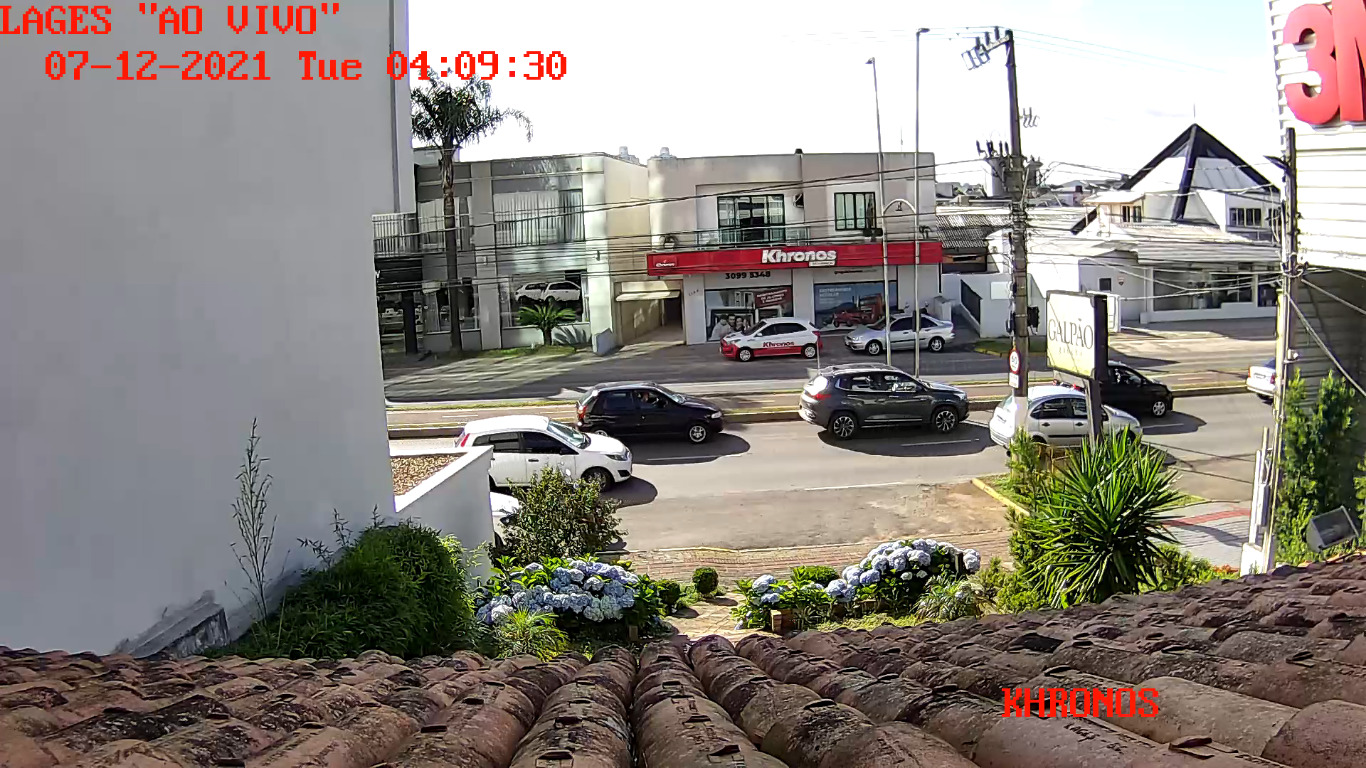car: (453, 415, 634, 491), (797, 363, 970, 441), (989, 384, 1141, 454), (576, 380, 725, 445)
